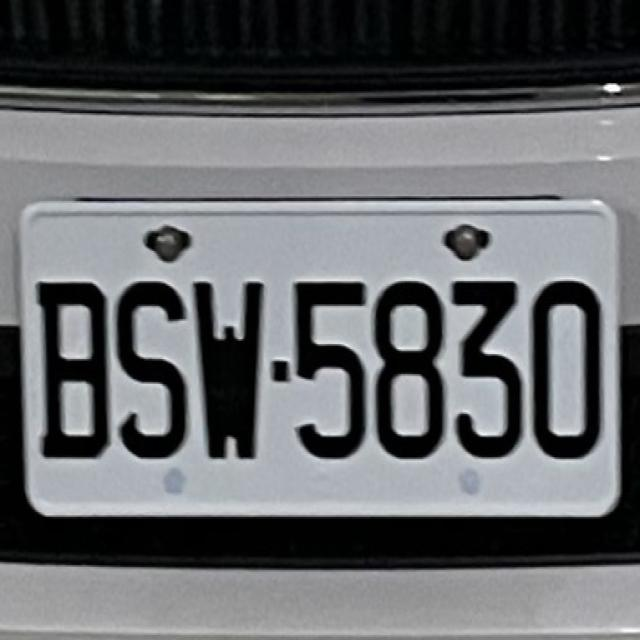license-plate: (24, 198, 621, 515)
